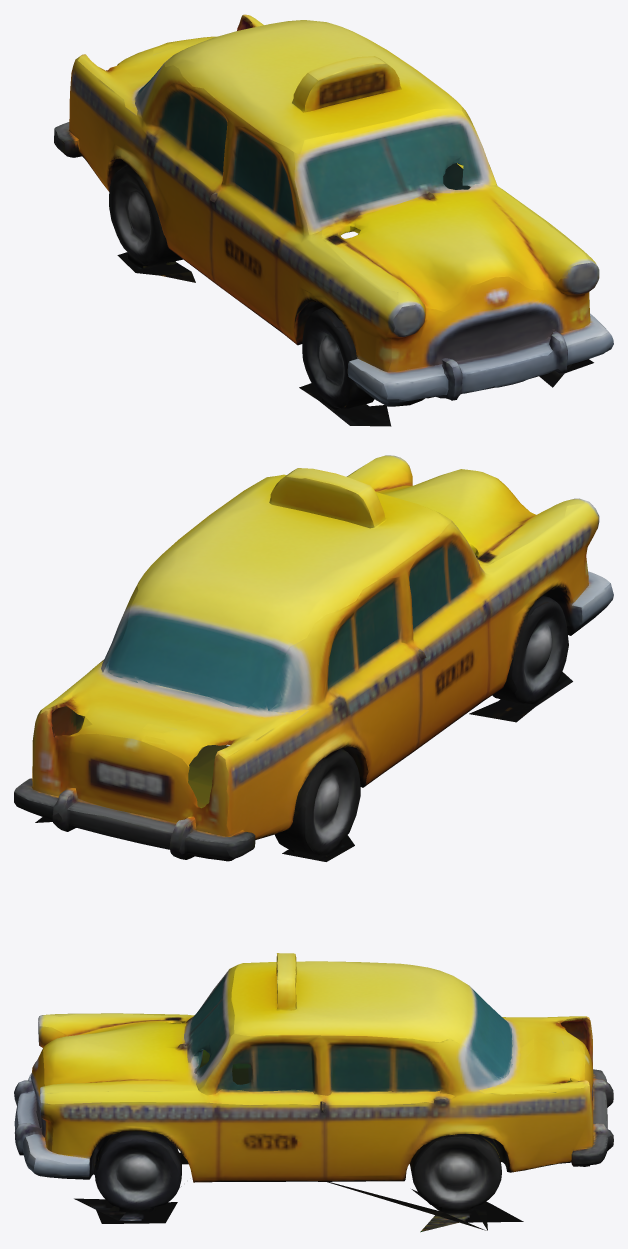
The model's file is taxi.glb.
3 views of the same model, one above another, from view 1: azimuth 30°, elevation 25°; view 2: azimuth 150°, elevation 25°; view 3: azimuth 270°, elevation 25° (orthographic). The views are drawn at different scales.
Parts seen in each view (by area): view 1: geometry_0; view 2: geometry_0; view 3: geometry_0.
Part boxes in pixels (<box>): geometry_0: <box>54,14,613,426</box>; geometry_0: <box>14,455,613,861</box>; geometry_0: <box>14,953,613,1232</box>.
Size of the model in its own units: 0.3985 by 0.2653 by 0.6976.
1 material, 1 textured.
